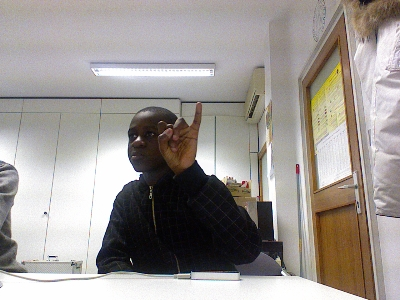小指: (156, 100, 204, 171)
